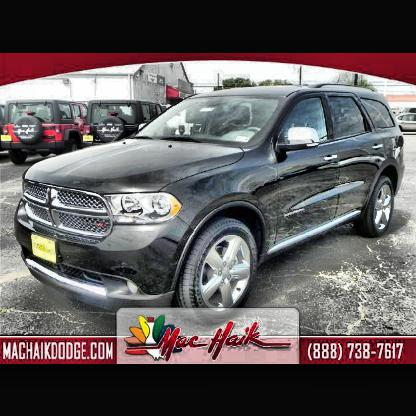Dodge Durango SUV 2012: (16, 83, 405, 322)
